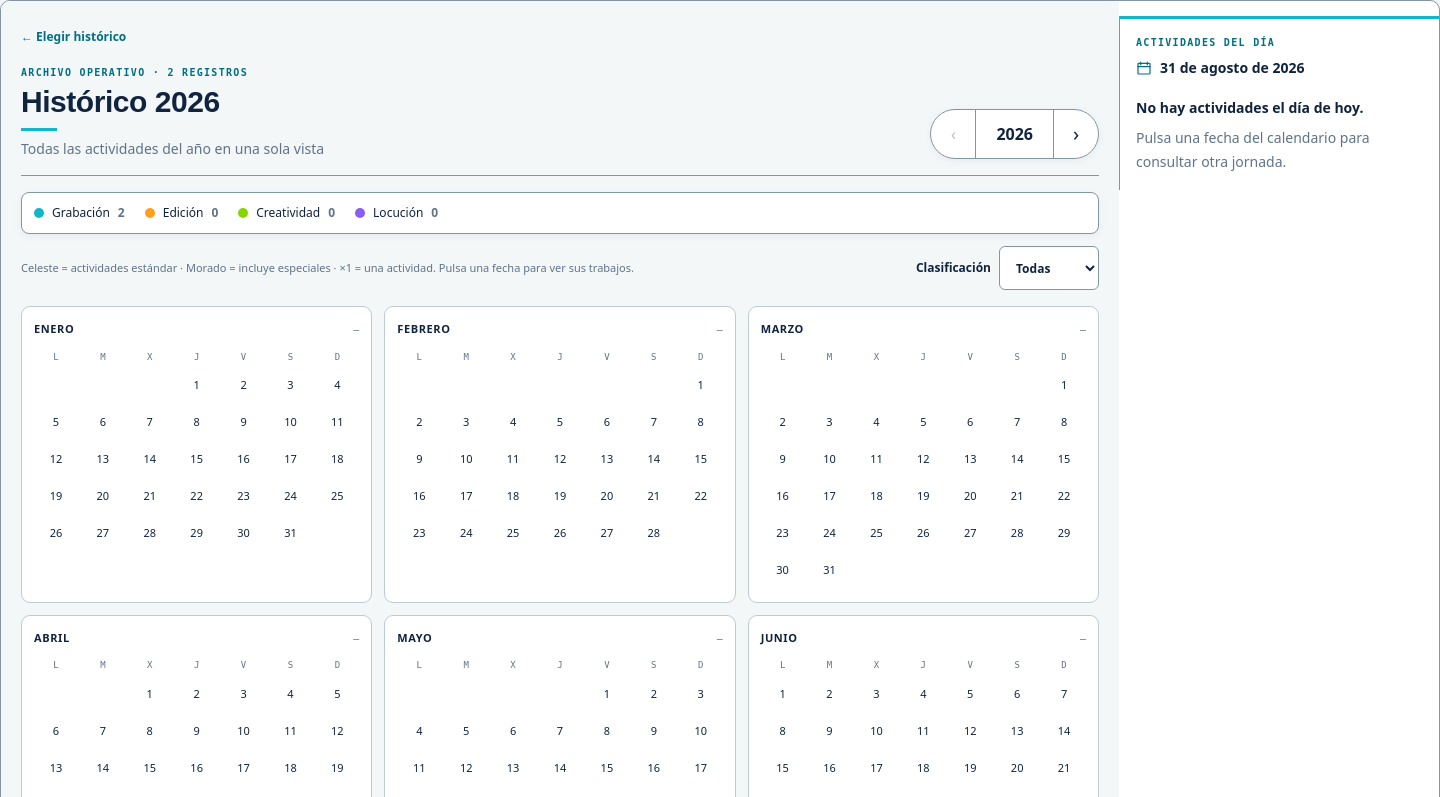
it: calendario anual compartido › marca en morado una fecha mixta aunque su primera actividad sea estándar
Step 1. Select "Estándar" in the dropdown labelled "Clasificación" → {"x": 1049, "y": 268}, box [999,246,1099,290]
(page scrolled)
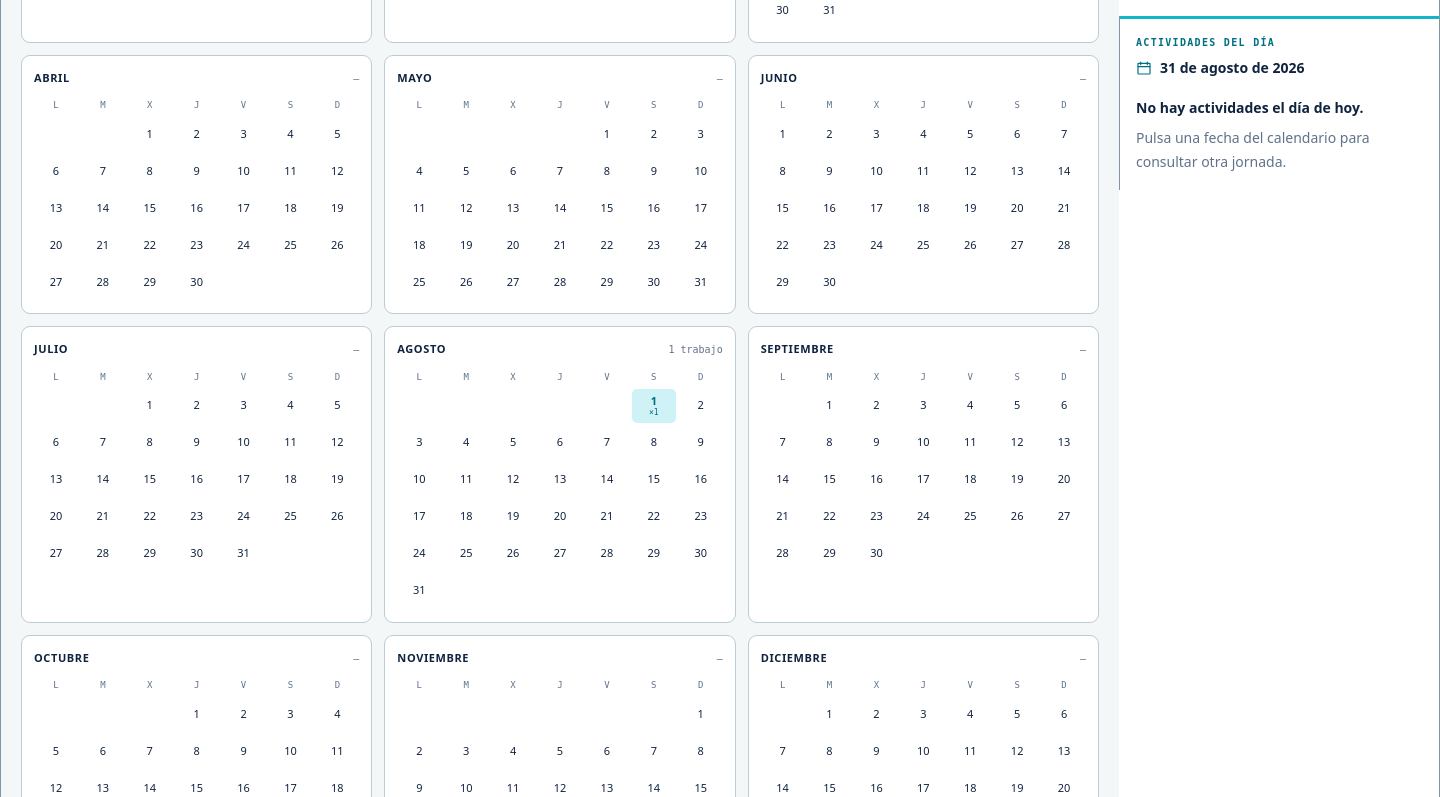
Result: the button named "1 de agosto:" reads "1 ×1" at [632,388,676,422]
